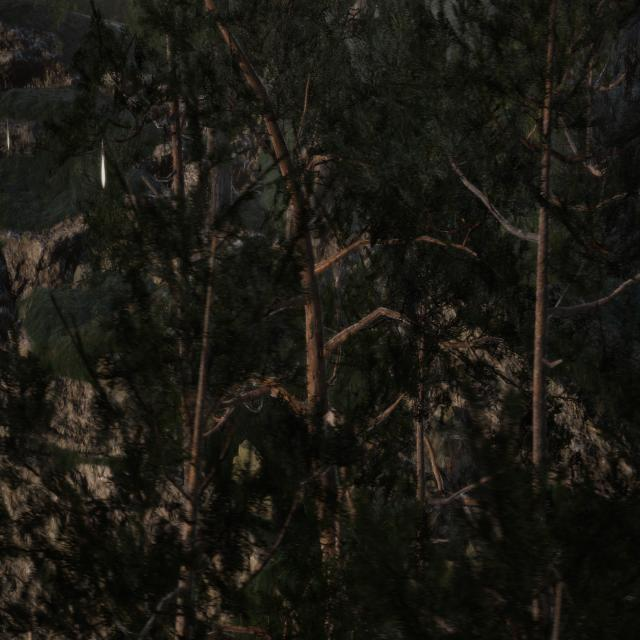Human: (330, 271, 360, 396)
